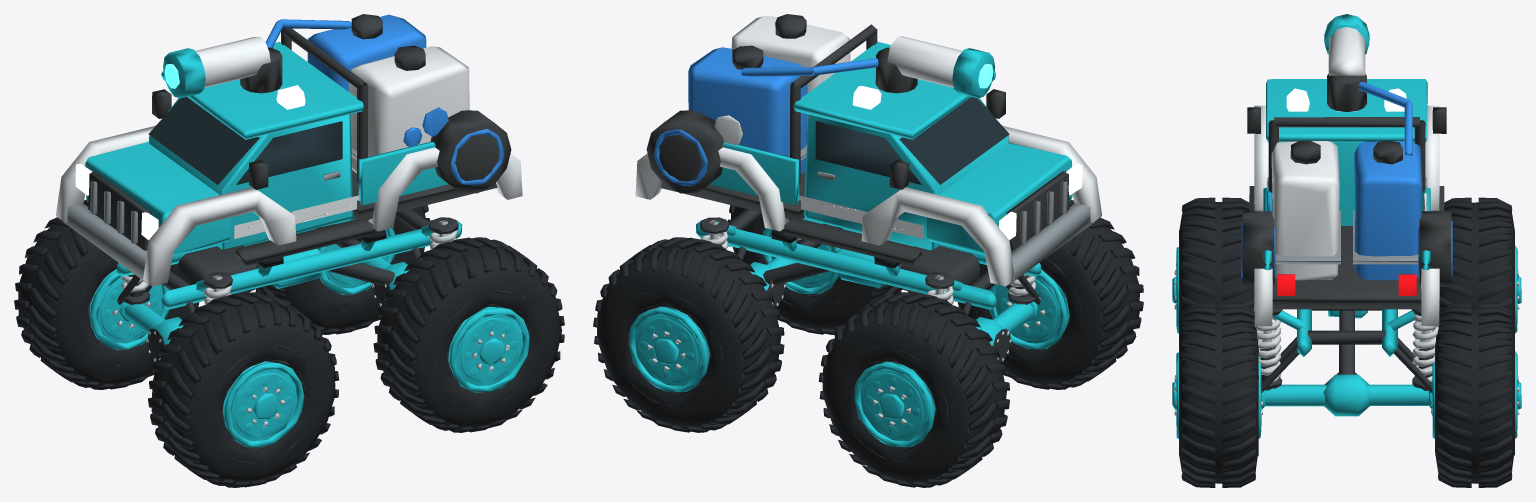
Rendered from SplashTruck_LOD1.fbx.
3 views of the same model, side by side, from view 1: azimuth 30°, elevation 25°; view 2: azimuth 150°, elevation 25°; view 3: azimuth 270°, elevation 25° (orthographic). The views are drawn at different scales.
Visible parts, largest first — view 1: SplashTruck_LOD1_sprung_body_Geometry, SplashTruck_LOD1_FL_Spin_Geometry, SplashTruck_LOD1_RL_Spin_Geometry, SplashTruck_LOD1_FR_Spin_Geometry, SplashTruck_LOD1_RR_Spin_Geometry, SplashTruck_LOD1_ToolPivot_Geometry, SplashTruck_LOD1_FRONT_axle_Geometry, SplashTruck_LOD1_Root_Geometry, SplashTruck_LOD1_REAR_axle_Geometry, SplashTruck_LOD1_REAR_shock_-1_Geometry, SplashTruck_LOD1_FRONT_shock_-1_Geometry; view 2: SplashTruck_LOD1_sprung_body_Geometry, SplashTruck_LOD1_RR_Spin_Geometry, SplashTruck_LOD1_FR_Spin_Geometry, SplashTruck_LOD1_FL_Spin_Geometry, SplashTruck_LOD1_RL_Spin_Geometry, SplashTruck_LOD1_ToolPivot_Geometry, SplashTruck_LOD1_FRONT_axle_Geometry, SplashTruck_LOD1_Root_Geometry, SplashTruck_LOD1_REAR_axle_Geometry, SplashTruck_LOD1_FRONT_shock_1_Geometry, SplashTruck_LOD1_REAR_shock_1_Geometry; view 3: SplashTruck_LOD1_sprung_body_Geometry, SplashTruck_LOD1_RL_Spin_Geometry, SplashTruck_LOD1_RR_Spin_Geometry, SplashTruck_LOD1_FL_Spin_Geometry, SplashTruck_LOD1_FR_Spin_Geometry, SplashTruck_LOD1_REAR_axle_Geometry, SplashTruck_LOD1_ToolPivot_Geometry, SplashTruck_LOD1_Root_Geometry, SplashTruck_LOD1_REAR_shock_-1_Geometry, SplashTruck_LOD1_REAR_shock_1_Geometry.
Boxes of the visible parts, x1=… form: SplashTruck_LOD1_sprung_body_Geometry: x1=55, y1=14, x2=522, y2=309; SplashTruck_LOD1_FL_Spin_Geometry: x1=148, y1=292, x2=339, y2=487; SplashTruck_LOD1_RL_Spin_Geometry: x1=373, y1=237, x2=564, y2=432; SplashTruck_LOD1_FR_Spin_Geometry: x1=14, y1=200, x2=199, y2=389; SplashTruck_LOD1_RR_Spin_Geometry: x1=255, y1=205, x2=430, y2=334; SplashTruck_LOD1_ToolPivot_Geometry: x1=163, y1=37, x2=270, y2=98; SplashTruck_LOD1_FRONT_axle_Geometry: x1=124, y1=303, x2=183, y2=362; SplashTruck_LOD1_Root_Geometry: x1=117, y1=219, x2=422, y2=315; SplashTruck_LOD1_REAR_axle_Geometry: x1=360, y1=257, x2=409, y2=306; SplashTruck_LOD1_REAR_shock_-1_Geometry: x1=428, y1=217, x2=458, y2=249; SplashTruck_LOD1_FRONT_shock_-1_Geometry: x1=204, y1=272, x2=232, y2=304; SplashTruck_LOD1_sprung_body_Geometry: x1=635, y1=14, x2=1102, y2=309; SplashTruck_LOD1_RR_Spin_Geometry: x1=593, y1=237, x2=784, y2=432; SplashTruck_LOD1_FR_Spin_Geometry: x1=818, y1=292, x2=1009, y2=487; SplashTruck_LOD1_FL_Spin_Geometry: x1=955, y1=200, x2=1143, y2=389; SplashTruck_LOD1_RL_Spin_Geometry: x1=728, y1=205, x2=902, y2=334; SplashTruck_LOD1_ToolPivot_Geometry: x1=887, y1=36, x2=994, y2=98; SplashTruck_LOD1_FRONT_axle_Geometry: x1=975, y1=303, x2=1033, y2=362; SplashTruck_LOD1_Root_Geometry: x1=720, y1=219, x2=1040, y2=315; SplashTruck_LOD1_REAR_axle_Geometry: x1=750, y1=257, x2=796, y2=307; SplashTruck_LOD1_FRONT_shock_1_Geometry: x1=925, y1=272, x2=954, y2=304; SplashTruck_LOD1_REAR_shock_1_Geometry: x1=699, y1=217, x2=728, y2=249; SplashTruck_LOD1_sprung_body_Geometry: x1=1241, y1=74, x2=1452, y2=356; SplashTruck_LOD1_RL_Spin_Geometry: x1=1172, y1=303, x2=1265, y2=487; SplashTruck_LOD1_RR_Spin_Geometry: x1=1428, y1=303, x2=1521, y2=487; SplashTruck_LOD1_FL_Spin_Geometry: x1=1172, y1=197, x2=1254, y2=333; SplashTruck_LOD1_FR_Spin_Geometry: x1=1432, y1=197, x2=1521, y2=334; SplashTruck_LOD1_REAR_axle_Geometry: x1=1265, y1=372, x2=1429, y2=416; SplashTruck_LOD1_ToolPivot_Geometry: x1=1324, y1=14, x2=1369, y2=75; SplashTruck_LOD1_Root_Geometry: x1=1261, y1=310, x2=1432, y2=393; SplashTruck_LOD1_REAR_shock_-1_Geometry: x1=1253, y1=306, x2=1282, y2=389; SplashTruck_LOD1_REAR_shock_1_Geometry: x1=1411, y1=306, x2=1440, y2=389.
Bounding box in the file's own units: 516 × 470 × 414.
